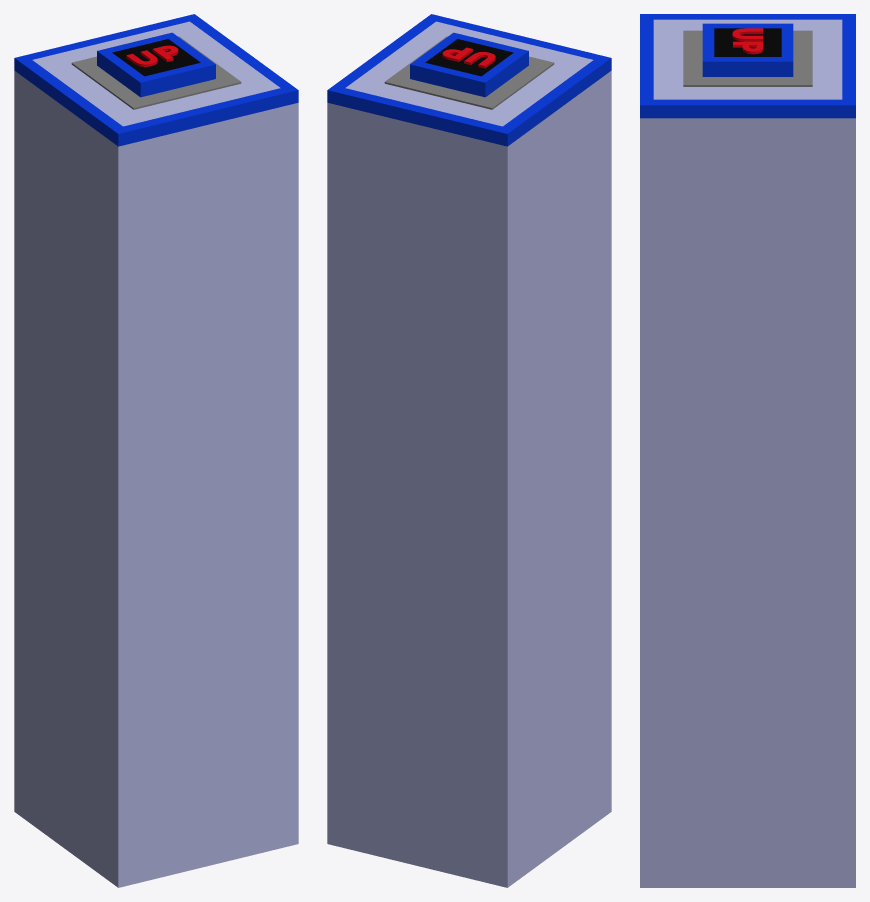
The model's file is blue_blue_up.fbx.
3 views of the same model, side by side, from view 1: azimuth 30°, elevation 25°; view 2: azimuth 150°, elevation 25°; view 3: azimuth 270°, elevation 25° (orthographic). The views are drawn at different scales.
Visible parts, largest first — view 1: blue_blue_up; view 2: blue_blue_up; view 3: blue_blue_up.
Part boxes in pixels (x1=…): blue_blue_up: x1=14, y1=14, x2=298, y2=887; blue_blue_up: x1=327, y1=14, x2=611, y2=887; blue_blue_up: x1=640, y1=14, x2=855, y2=887.
Bounding box in the file's own units: 1 × 4.1 × 1.
